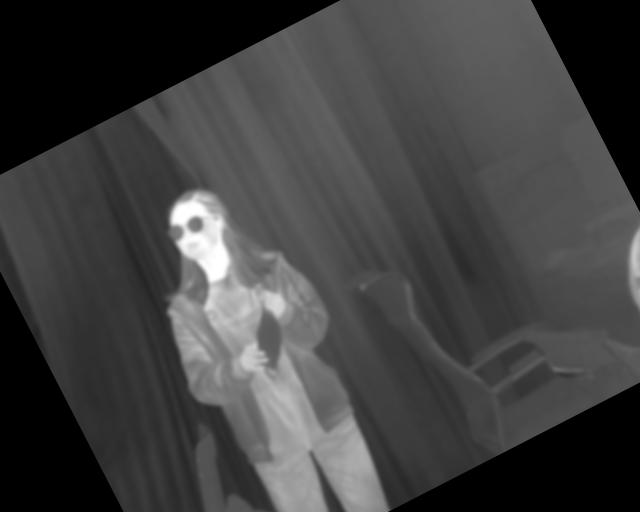face: (285, 290, 392, 420)
